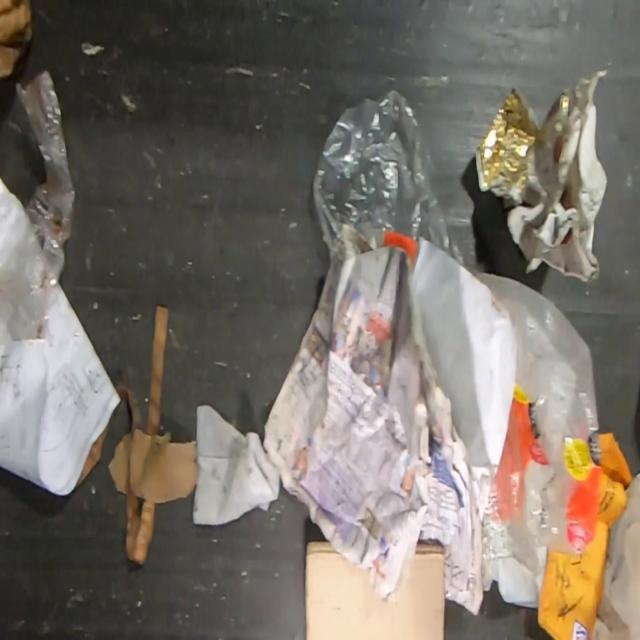cardboard: (304, 540, 444, 640)
soft_plastic: (310, 88, 603, 556), (0, 64, 76, 345)
